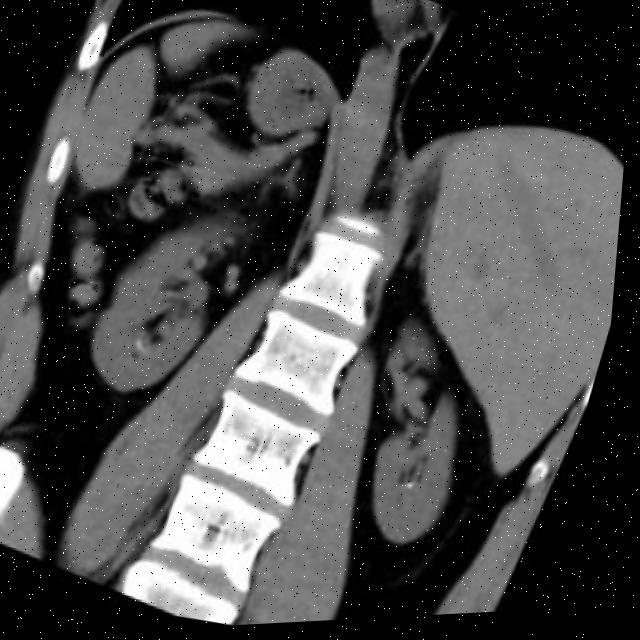Tas_Var: (407, 479, 427, 501), (133, 337, 151, 353)
